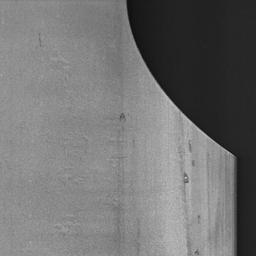Crescent gap: (126, 0, 234, 155)
